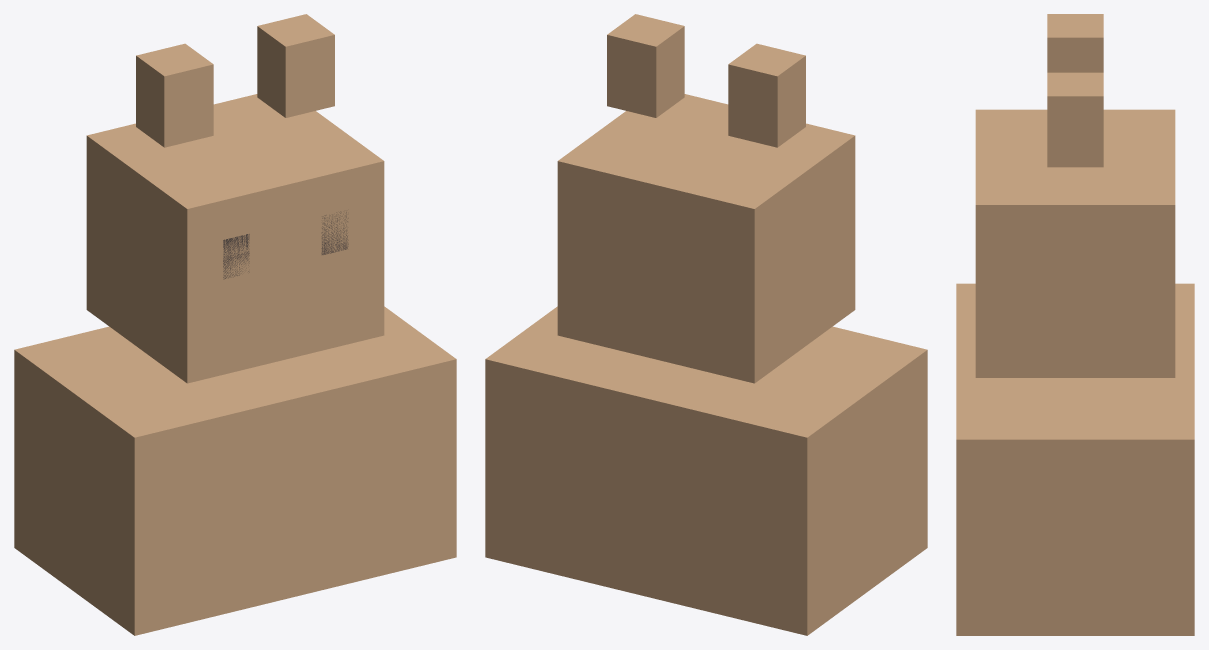
The model's file is test-pet.glb.
3 views of the same model, side by side, from view 1: azimuth 30°, elevation 25°; view 2: azimuth 150°, elevation 25°; view 3: azimuth 270°, elevation 25° (orthographic).
Parts seen in each view (by area): view 1: body, head, earR, earL, eyeL, eyeR; view 2: body, head, earR, earL; view 3: body, head, earR, earL.
Part boxes in pixels (x1=…): body: x1=14, y1=306, x2=456, y2=635; head: x1=86, y1=94, x2=384, y2=383; earR: x1=257, y1=14, x2=334, y2=117; earL: x1=136, y1=43, x2=213, y2=147; eyeL: x1=223, y1=234, x2=249, y2=279; eyeR: x1=321, y1=211, x2=348, y2=254; body: x1=485, y1=306, x2=927, y2=635; head: x1=557, y1=94, x2=855, y2=383; earR: x1=607, y1=14, x2=684, y2=117; earL: x1=728, y1=43, x2=805, y2=147; body: x1=956, y1=283, x2=1194, y2=635; head: x1=975, y1=109, x2=1175, y2=377; earR: x1=1047, y1=72, x2=1103, y2=167; earL: x1=1047, y1=14, x2=1103, y2=72.
Size of the model in its own units: 0.85 by 1.28 by 0.55.
